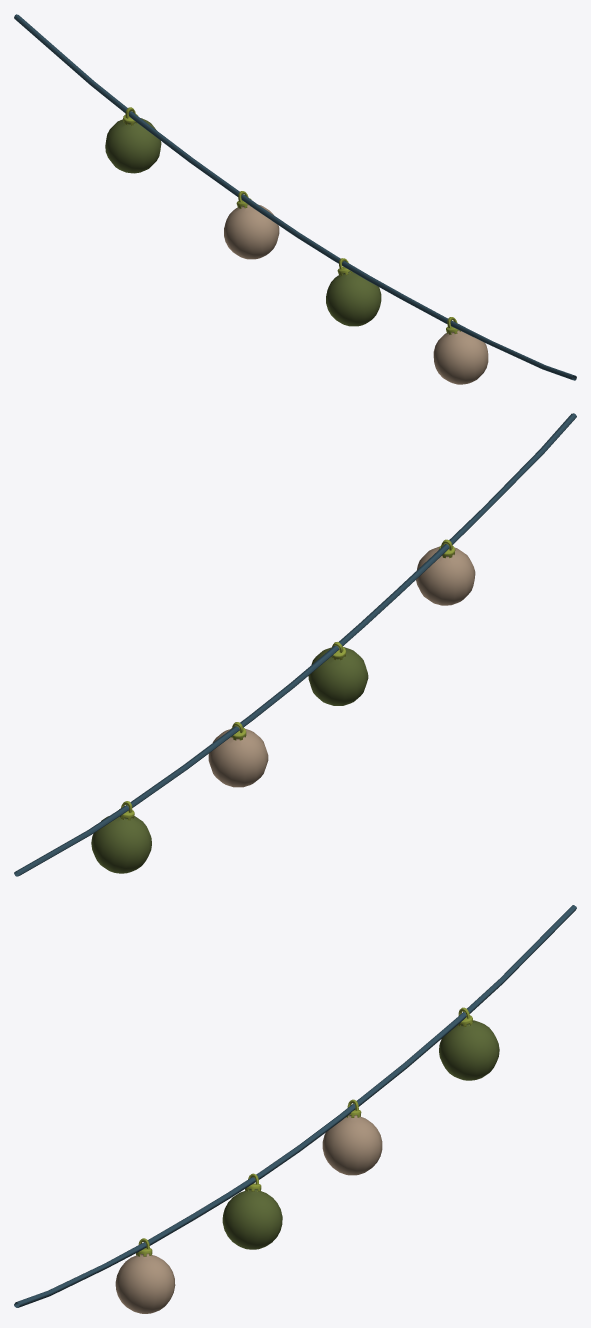
Rendered from baubles-decor.fbx.
The picture shows the model from 3 angles, top to bottom: view 1: azimuth 30°, elevation 25°; view 2: azimuth 150°, elevation 25°; view 3: azimuth 330°, elevation 25°; orthographic projection. The views are drawn at different scales.
Parts seen in each view (by area): view 1: backgroundyoule3; view 2: backgroundyoule3; view 3: backgroundyoule3.
Boxes of the visible parts, box(x1,y1,x2,y2) form: backgroundyoule3: box(14, 14, 576, 384); backgroundyoule3: box(14, 413, 576, 876); backgroundyoule3: box(14, 905, 576, 1313).
Bounding box in the file's own units: 1.04 × 1.83 × 15.82.
